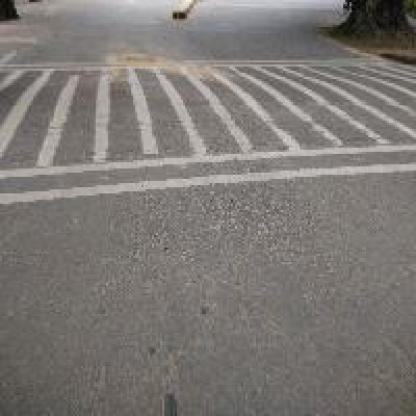Speed Bump: (4, 56, 406, 204)
